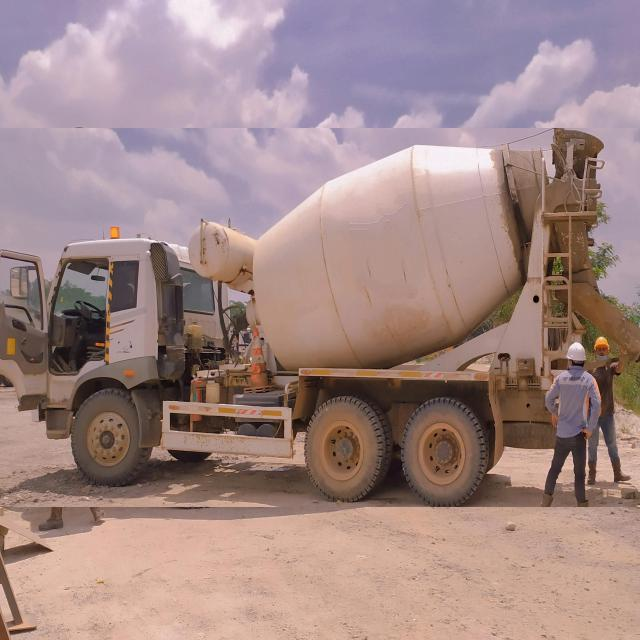truck: (0, 129, 640, 507)
